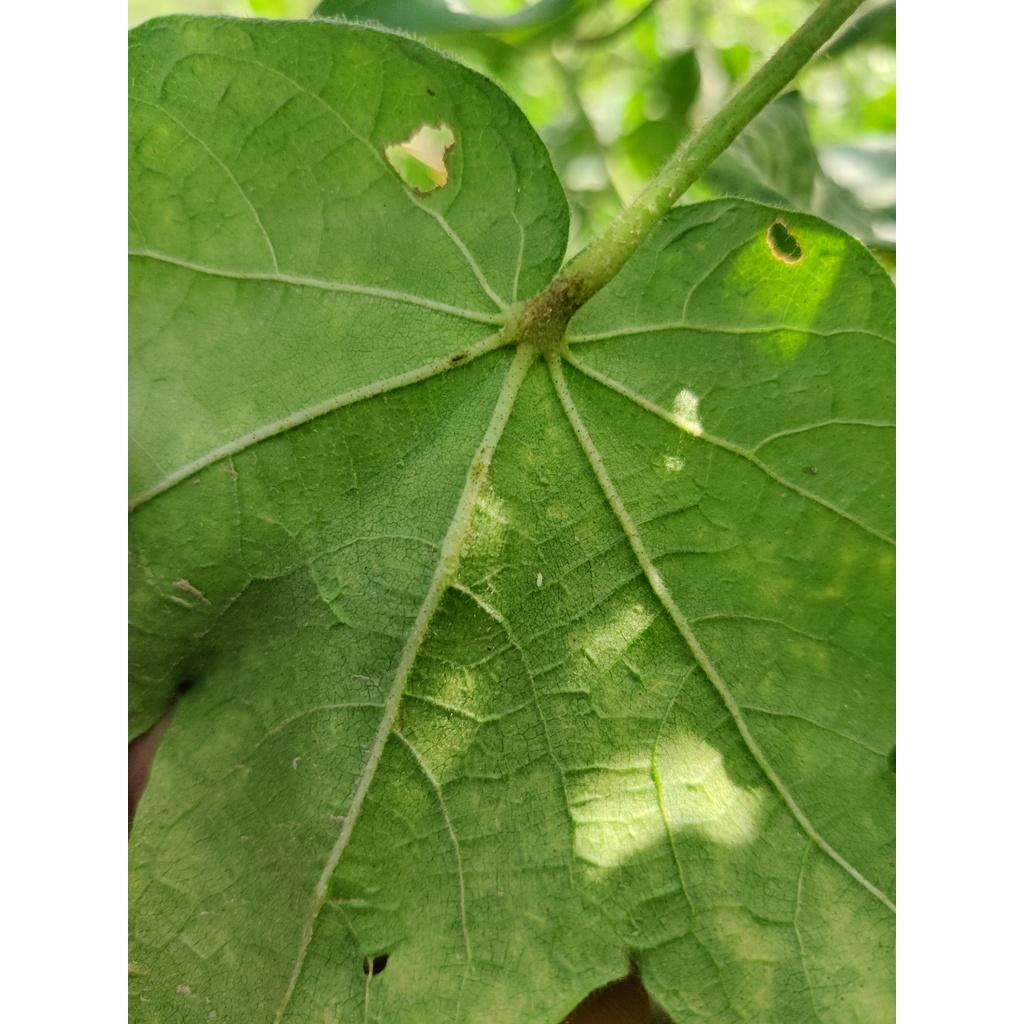adult: (536, 573, 544, 587)
